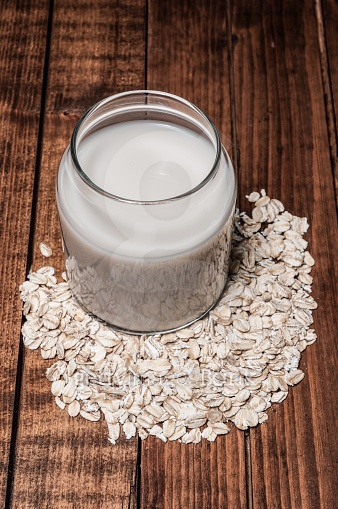glass of milk: (57, 100, 246, 334)
